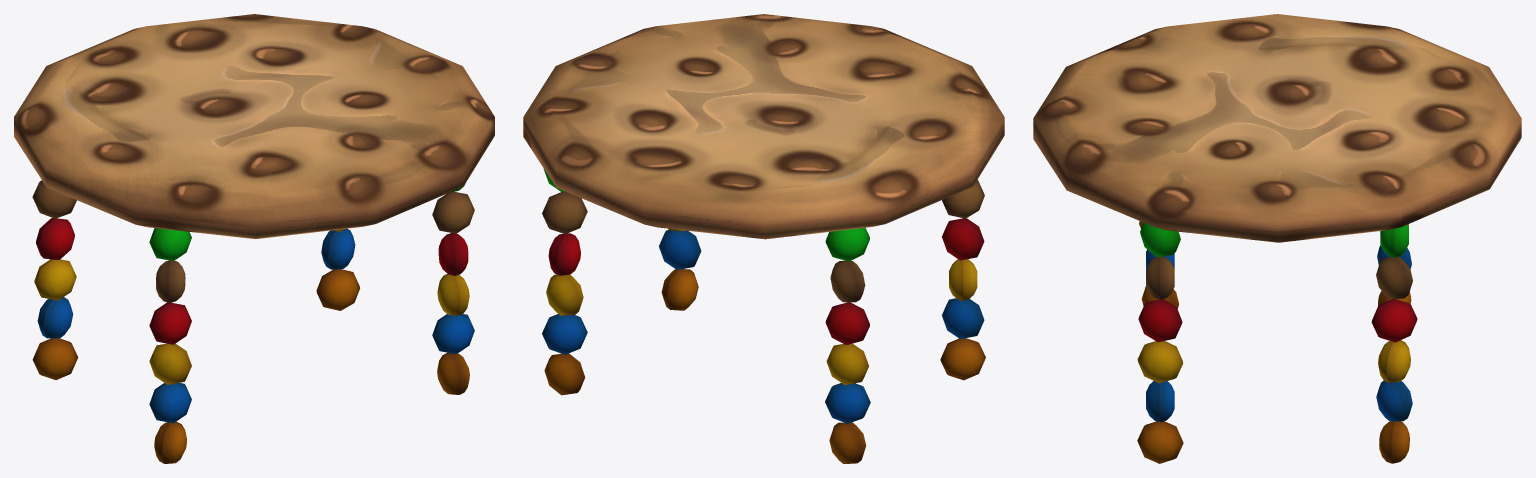
The model's file is CookieTable.obj.
3 views of the same model, side by side, from view 1: azimuth 30°, elevation 25°; view 2: azimuth 150°, elevation 25°; view 3: azimuth 270°, elevation 25° (orthographic).
Parts seen in each view (by area): view 1: pSphere29; view 2: pSphere29; view 3: pSphere29.
Boxes of the visible parts, left/top/right/bottom form: pSphere29: left=14, top=14, right=494, bottom=463; pSphere29: left=523, top=14, right=1004, bottom=463; pSphere29: left=1033, top=14, right=1521, bottom=463.
Bounding box in the file's own units: 2 × 1.29 × 2.
Materials: 1 (1 with a texture image).
